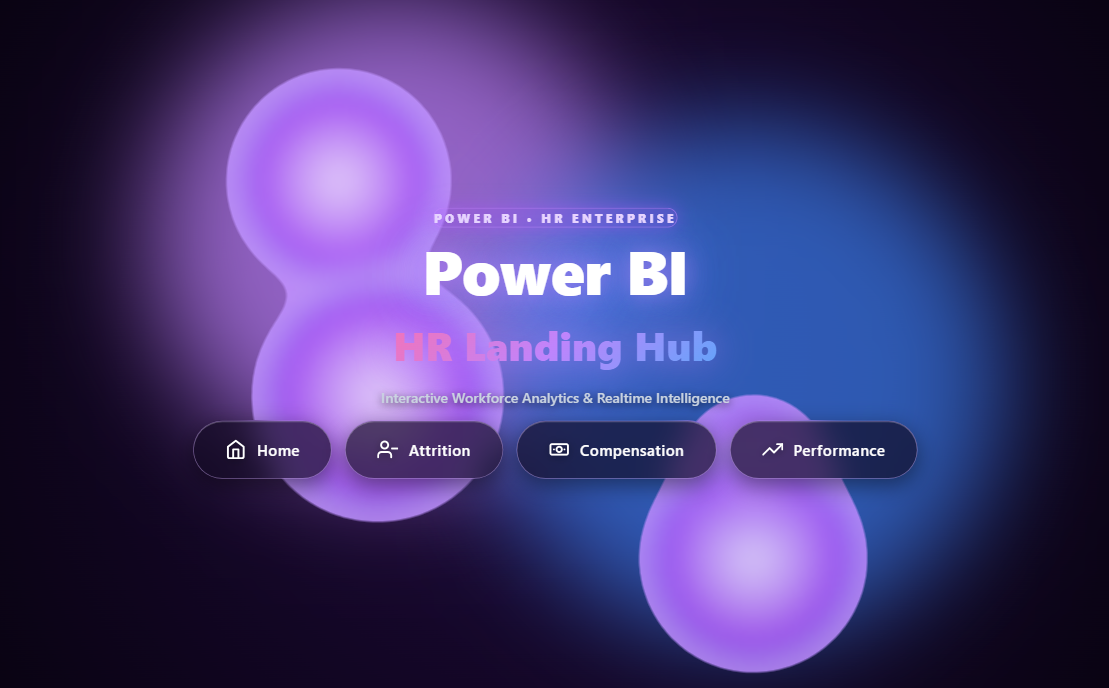

This screenshot's page, from the dashboard's own definition file:
{"tool":"powerbi","page":{"name":"Home","canvas":[1280,800],"ordinal":0},"visuals":[{"type":"htmlContent443BE3AD55E043BF878BED274D3A6855","fields":{"content":["HTML Measures.Nav_Sidebar_Menu"]},"box":[0,0,1280.2,800.3],"z":0},{"type":"actionButton","box":[292.5,488.8,90,67.5],"z":1000},{"type":"actionButton","box":[467.5,488.8,113.8,67.5],"z":2000},{"type":"actionButton","box":[661.2,488.8,163.8,67.5],"z":3000},{"type":"actionButton","box":[907.5,488.8,147.5,67.5],"z":4000}]}

Visuals, with their boxes in screenshot pixels (x1, y1, x2, y2), scaled from the page's 1280x800 canvas onto the 1109x688 screenshot:
htmlContent443BE3AD55E043BF878BED274D3A6855 - HTML Measures.Nav_Sidebar_Menu: (x1=0, y1=0, x2=1108, y2=687)
actionButton: (x1=253, y1=420, x2=331, y2=478)
actionButton: (x1=405, y1=420, x2=504, y2=478)
actionButton: (x1=573, y1=420, x2=715, y2=478)
actionButton: (x1=786, y1=420, x2=914, y2=478)
